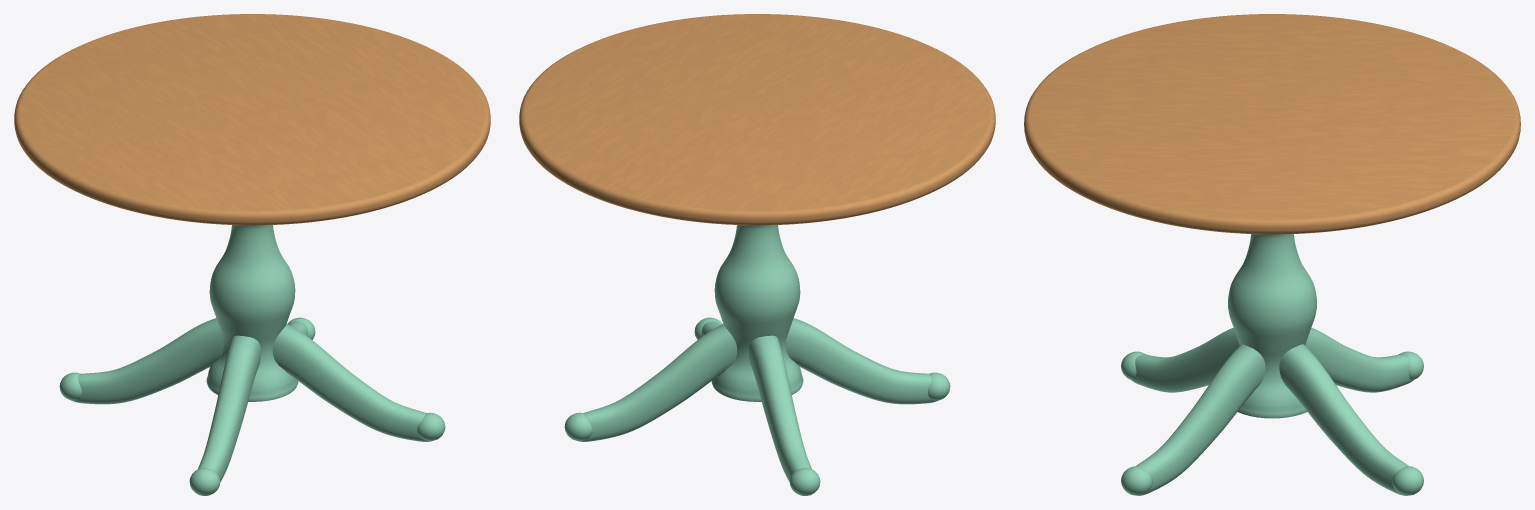
File: round-table.glb
The picture shows the model from 3 angles, left to right: view 1: azimuth 30°, elevation 25°; view 2: azimuth 150°, elevation 25°; view 3: azimuth 270°, elevation 25°; orthographic projection. The views are drawn at different scales.
Visible parts, largest first — view 1: round-table_body; view 2: round-table_body; view 3: round-table_body.
Part boxes in pixels (x1,y1,x2,y2): round-table_body: (14,14,490,495); round-table_body: (519,14,995,495); round-table_body: (1024,14,1520,495).
Bounding box in the file's own units: 1.05 × 0.75 × 1.05.
Materials: 1 (1 with a texture image).
